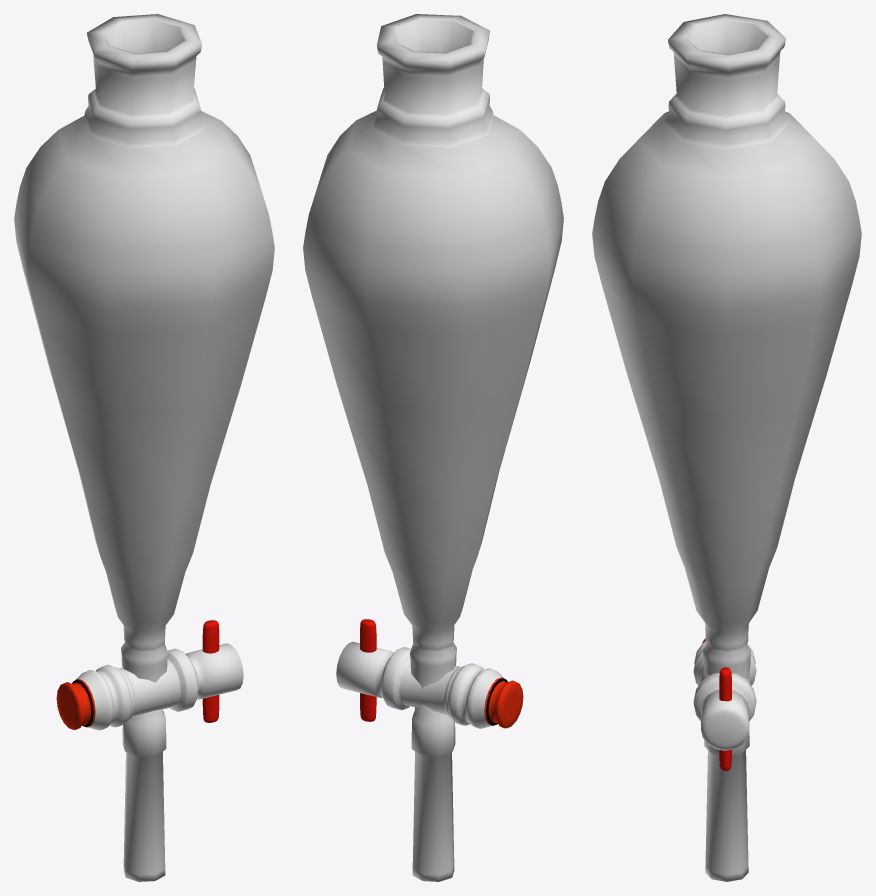
File: separatoryfunnel_NO_STOPPER.fbx
3 views of the same model, side by side, from view 1: azimuth 30°, elevation 25°; view 2: azimuth 150°, elevation 25°; view 3: azimuth 270°, elevation 25° (orthographic).
Parts seen in each view (by area): view 1: separatory funnel; view 2: separatory funnel; view 3: separatory funnel.
Part boxes in pixels (x1,y1,x2,y2): separatory funnel: (14,14,274,881); separatory funnel: (303,14,563,881); separatory funnel: (592,14,861,881).
Bounding box in the file's own units: 11.31 × 38.69 × 11.31.
